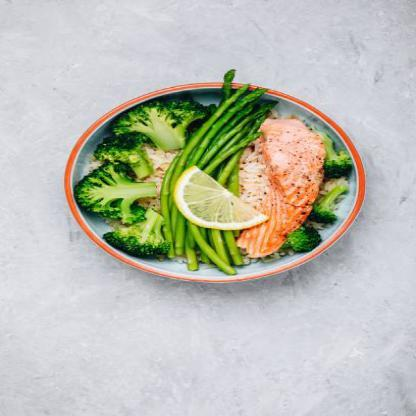broccoli: (76, 96, 353, 268)
